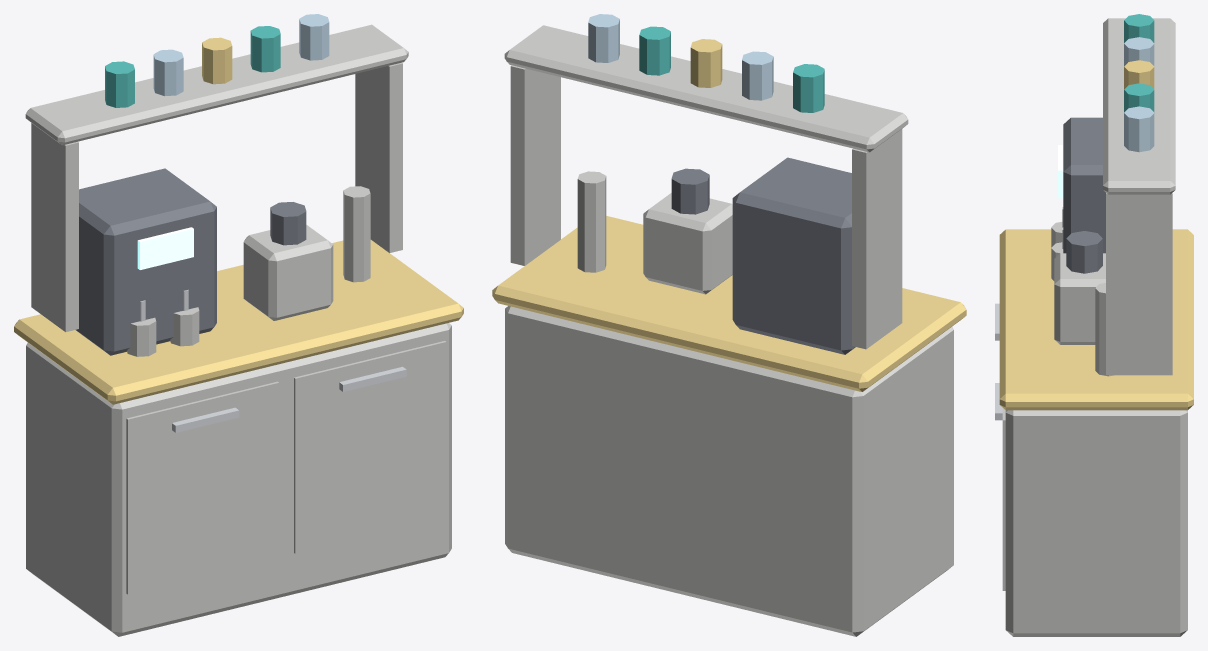
Rendered from medical-23648.glb.
3 renders of one model, left to right at view 1: azimuth 30°, elevation 25°; view 2: azimuth 150°, elevation 25°; view 3: azimuth 270°, elevation 25°, orthographic. The views are drawn at different scales.
Parts seen in each view (by area): view 1: coffee-point; view 2: coffee-point; view 3: coffee-point.
Boxes of the visible parts, x1=… form: coffee-point: x1=14, y1=14, x2=463, y2=636; coffee-point: x1=492, y1=14, x2=966, y2=636; coffee-point: x1=995, y1=14, x2=1193, y2=636.
Bounding box in the file's own units: 1.32 × 1.79 × 0.6549.
